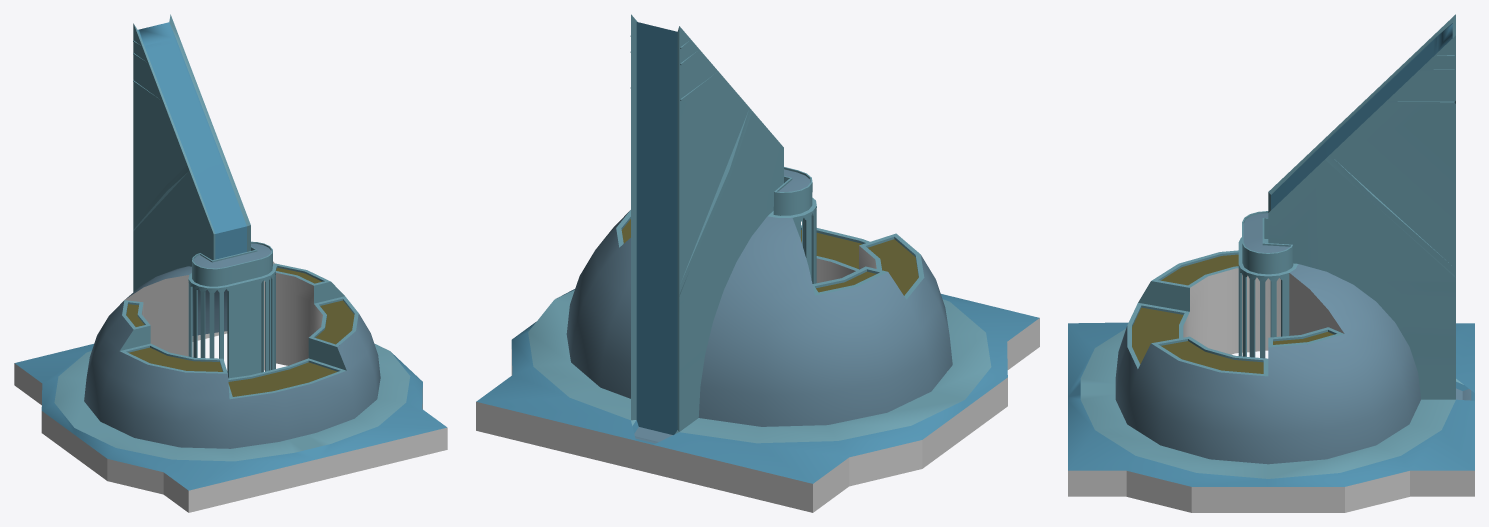
The model's file is BUILDING.fbx.
3 renders of one model, left to right at view 1: azimuth 30°, elevation 25°; view 2: azimuth 150°, elevation 25°; view 3: azimuth 270°, elevation 25°, orthographic. The views are drawn at different scales.
Parts seen in each view (by area): view 1: building229.001_building_metal01_0; view 2: building229.001_building_metal01_0; view 3: building229.001_building_metal01_0.
Part boxes in pixels (x1,y1,x2,y2): building229.001_building_metal01_0: [14, 14, 447, 512]; building229.001_building_metal01_0: [476, 14, 1039, 512]; building229.001_building_metal01_0: [1068, 14, 1474, 512].
Bounding box in the file's own units: 36.82 × 38.05 × 35.22.
